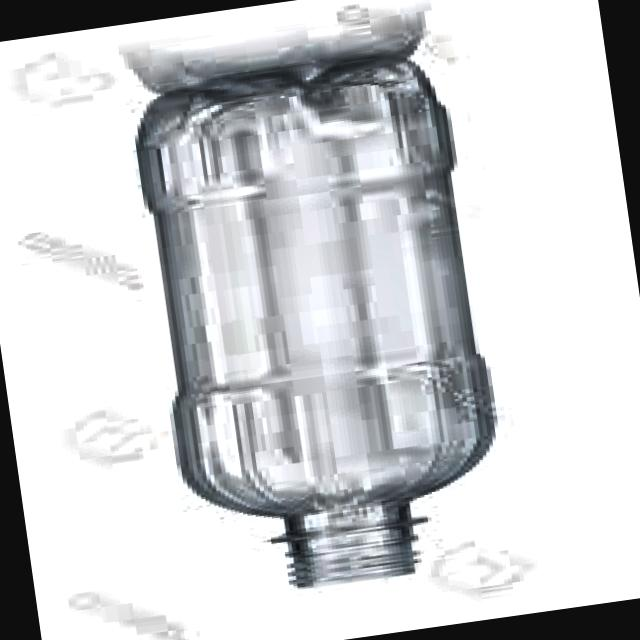plastic bottle: (138, 58, 493, 587)
